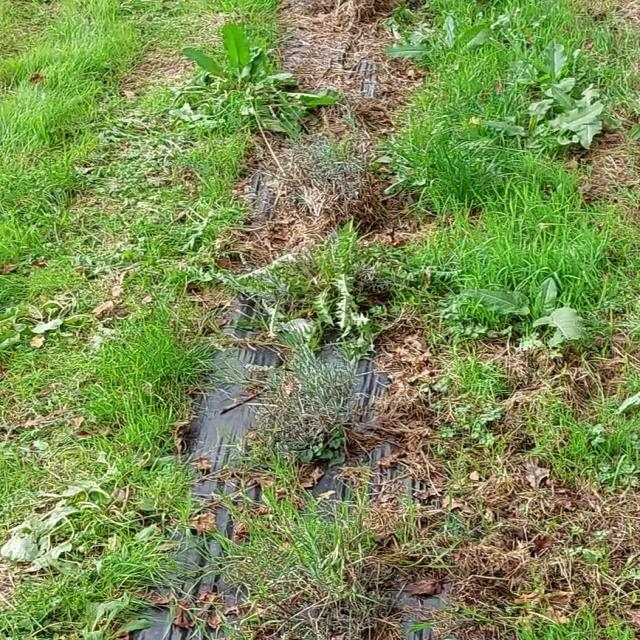organic waste: (157, 20, 333, 141), (454, 265, 599, 352), (0, 472, 117, 565), (0, 271, 117, 350), (394, 17, 503, 84), (526, 82, 620, 156), (474, 98, 570, 157), (481, 32, 569, 96)
